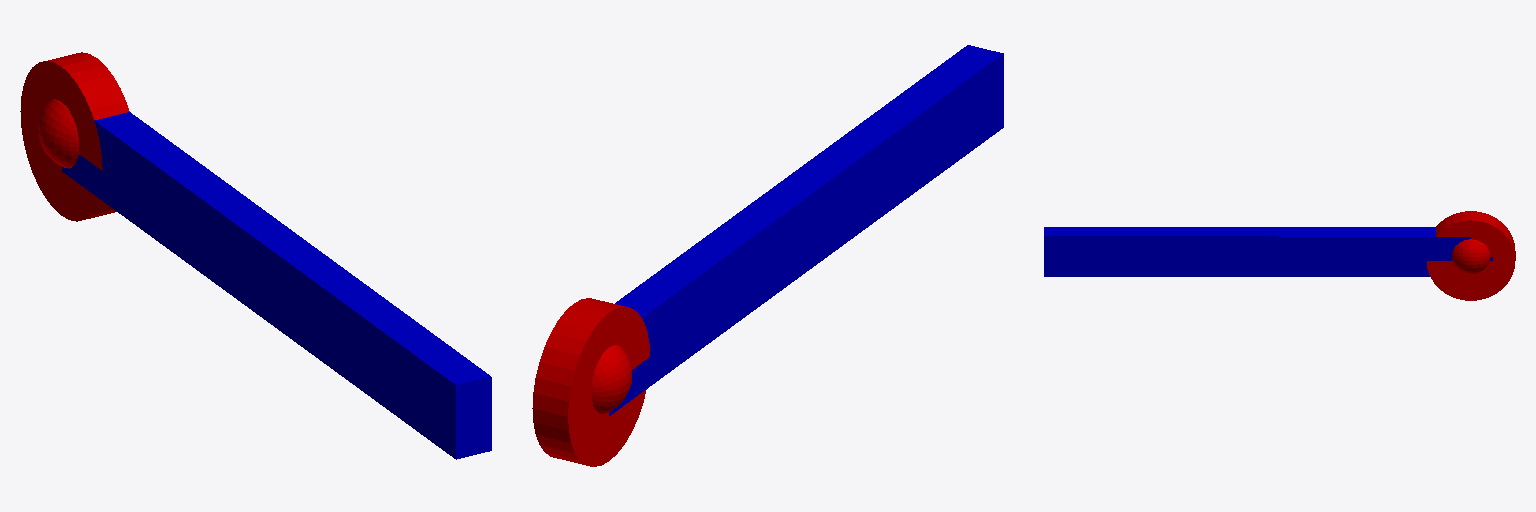
robot.urdf — TwoLinkStruct1880866220:
<?xml version="1.0"?>
<robot  name="TwoLinkStruct1880866220" >
 <material  name="blue" >
  <color  rgba="0 0 0.8 1.0" />
 </material>
 <material  name="red" >
  <color  rgba="0.8 0 0 1.0" />
 </material>
 <link  name="base_link" >
  <visual >
   <origin  rpy="0 1.5707 0"  xyz="0 0 0" />
   <material  name="red" />
   <geometry >
    <cylinder  length="0.05"  radius="0.1" />
   </geometry>
  </visual>
 </link>
 <joint  type="revolute"  name="joint1" >
  <parent  link="base_link" />
  <child  link="link1" />
  <origin  xyz="0 0 0"  rpy="0 0 0" />
  <axis  xyz="1 0 0" />
 </joint>
 <link  name="link1" >
  <inertial >
   <origin  rpy="0 0 0"  xyz="0 0 0.005" />
   <mass  value="0.027123706340789797" />
   <inertia  ixy="0.0"  iyy="1.1301544308662418e-05"  izz="5.876803040504457e-06"  ixz="0.0"  ixx="5.876803040504457e-06"  iyz="0.0" />
  </inertial>
  <visual >
   <origin  rpy="0 0 0"  xyz="0 0 0.005" />
   <material  name="blue" />
   <geometry >
    <box  size="0.05 0.1 0.01" />
   </geometry>
  </visual>
 </link>
 <joint  type="fixed"  name="joint-joint-1" >
  <parent  link="link1" />
  <child  link="joint-link-1" />
  <origin  xyz="0 0 0.01"  rpy="1.5707 0 0" />
  <axis  xyz="1 0 0" />
 </joint>
 <link  name="joint-link-1" >
  <inertial >
   <origin  rpy="0 0 0"  xyz="0 0 0" />
   <mass  value="0.8254320516031808" />
   <inertia  ixy="0"  iyy="0"  izz="0"  ixz="0"  ixx="0"  iyz="0" />
  </inertial>
  <visual >
   <origin  rpy="0 0 0"  xyz="0 0 0" />
   <material  name="red" />
   <geometry >
    <sphere  radius="0.05" />
   </geometry>
  </visual>
 </link>
 <joint  type="revolute"  name="joint2" >
  <parent  link="link1" />
  <child  link="link2" />
  <origin  xyz="0 0 0.01"  rpy="1.5707 0 0" />
  <axis  xyz="1 0 0" />
 </joint>
 <link  name="link2" >
  <inertial >
   <origin  rpy="0 0 0"  xyz="0 0 0.47962542572807876" />
   <mass  value="3.6265191371289283" />
   <inertia  ixy="0.0"  iyy="1.1301544308662418e-05"  izz="0.00208550153804812"  ixz="0.0"  ixx="0.00208550153804812"  iyz="0.0" />
  </inertial>
  <visual >
   <origin  rpy="0 0 0"  xyz="0 0 0.47962542572807876" />
   <material  name="blue" />
   <geometry >
    <box  size="0.05 0.1 0.9592508514561575" />
   </geometry>
  </visual>
 </link>
 <joint  type="fixed"  name="eef_joint" >
  <parent  link="link2" />
  <child  link="eef" />
  <origin  xyz="0 0 0.9592508514561575"  rpy="0 0 0" />
 </joint>
 <link  name="eef" >
  <inertial >
   <origin  rpy="0 0 0"  xyz="0 0 0" />
   <mass  value="1" />
   <inertia  ixy="0"  iyy="0"  izz="0"  ixz="0"  ixx="0"  iyz="0" />
  </inertial>
 </link>
 <transmission  name="motor1" >
  <type  xmltext="SimpleTransmission" >
   SimpleTransmission
  </type>
  <actuator  name="motor1" >
   <mechanicalreduction  xmltext="1" >
    1
   </mechanicalreduction>
  </actuator>
  <joint  name="joint1" />
 </transmission>
 <transmission  name="motor2" >
  <type  xmltext="SimpleTransmission" >
   SimpleTransmission
  </type>
  <actuator  name="motor2" >
   <mechanicalreduction  xmltext="1" >
    1
   </mechanicalreduction>
  </actuator>
  <joint  name="joint2" />
 </transmission>
</robot>

<!-- {'carti': array([-0.1 ,  0.14,  0.85]), 'cartd': array([-0.1 ,  0.32,  1.29]), 'tau_mu': 1.0, 'b0': 0.04819756472597341, 'Km': 3.6300207218704497, 'k_velocity': 88.43338728398513, 'tau_max_m': 2.0385183971021563, 'omega_max_m': 4539.236231778318, 'gear_ratio': 16.50715742634344, 'Kp': 14.680014285695368, 'Kd': 66.51426909743725, 'm_m': 0.8254320516031808, 'l1': 0.01, 'l2': 0.9592508514561575, 'k1': 24148.894193667315, 'k2': 210525798.9155712, 'k3': 379000000.0}-->

--- Render facts (derived) ---
The picture shows the robot from 3 angles, left to right: view 1: azimuth 30°, elevation 25°; view 2: azimuth 150°, elevation 25°; view 3: azimuth 270°, elevation 25°; orthographic projection.
Model TwoLinkStruct1880866220 with 5 links and 4 joints (2 revolute, 2 fixed), rooted at base_link, posed all joints at 0.
Links seen in each view (by area): view 1: link2, base_link, joint-link-1; view 2: link2, base_link, joint-link-1; view 3: link2, base_link, joint-link-1.
Link boxes in pixels (box(x1,y1,x2,y2)): link2: box(62, 112, 491, 459); base_link: box(20, 52, 129, 221); joint-link-1: box(38, 99, 78, 168); link2: box(609, 45, 1003, 415); base_link: box(532, 298, 649, 466); joint-link-1: box(591, 345, 631, 413); link2: box(1044, 227, 1470, 276); base_link: box(1427, 211, 1515, 300); joint-link-1: box(1452, 239, 1489, 273).
Size in the robot's own frame: 0.1 by 1.06 by 0.2 metres.
Geometry: primitives only (box / cylinder / sphere), no mesh files.
